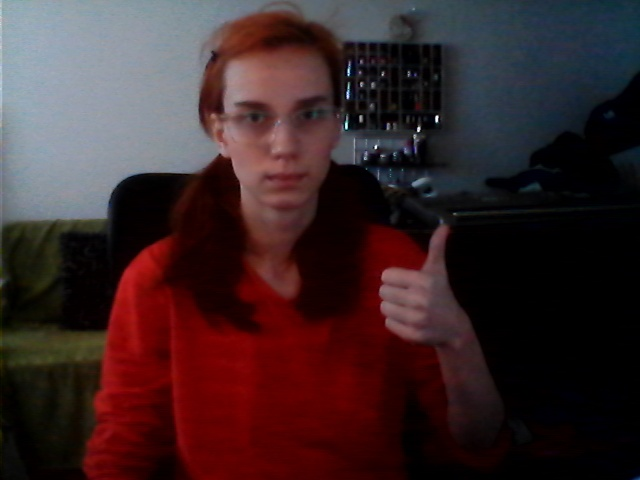jeden: (373, 221, 465, 347)
